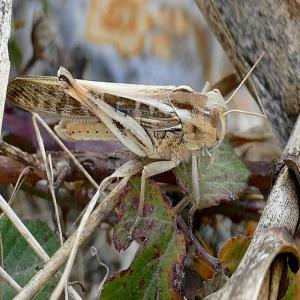locust: (1, 45, 260, 198)
